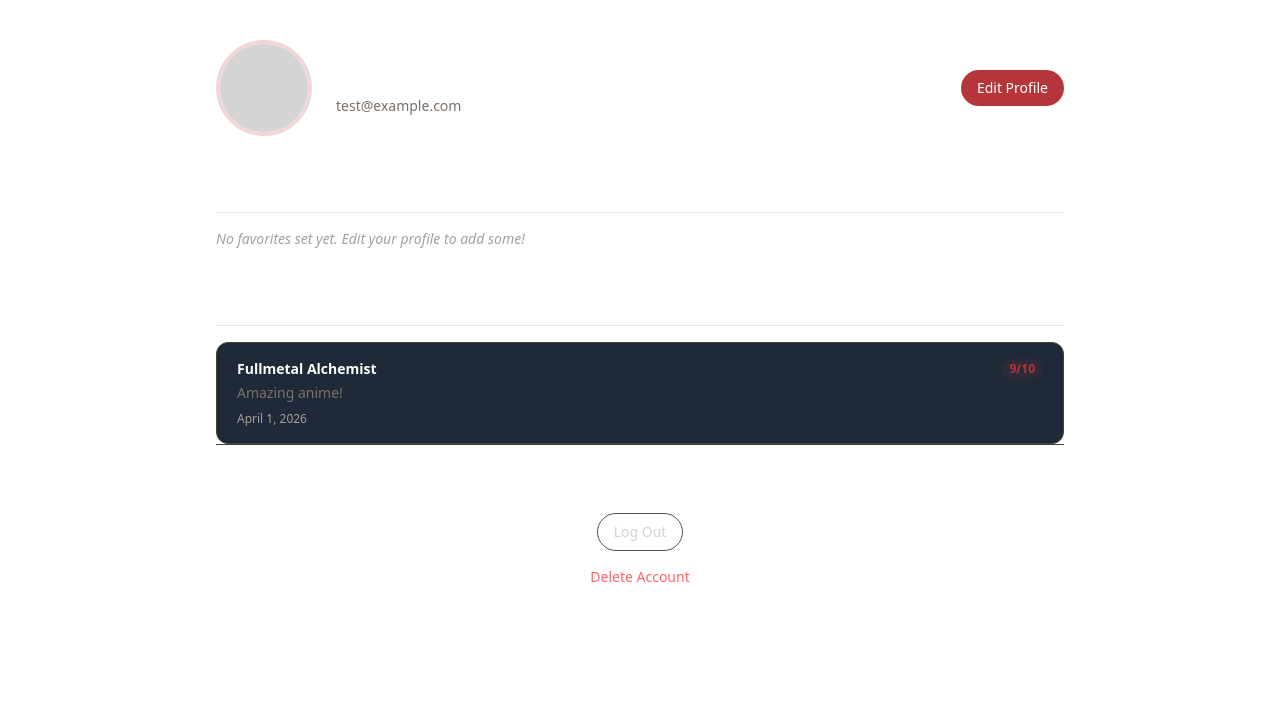
Test case: ProfilePage › Edit profile modal › closes modal when Cancel is clicked
Step 1. Click the button "Edit Profile" → {"x": 1012, "y": 88}, box [961, 70, 1064, 106]
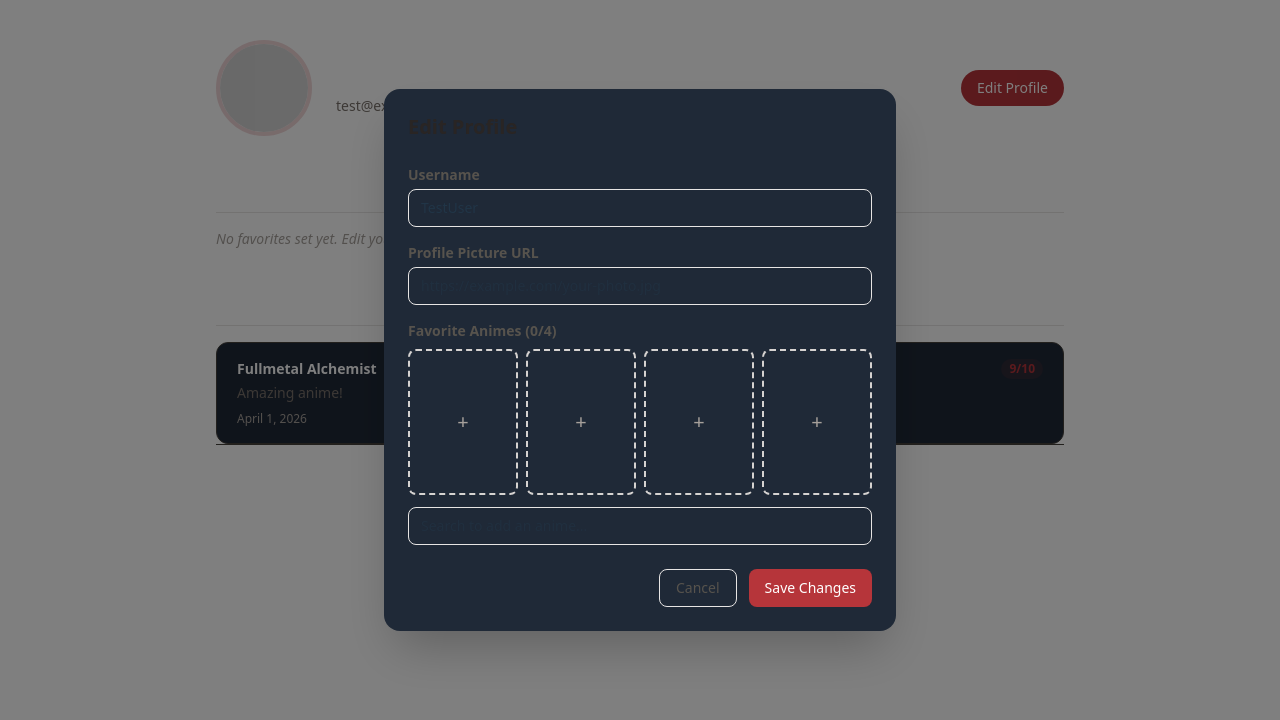
Step 2. Click the button "Cancel" → {"x": 698, "y": 588}, box [659, 569, 737, 607]
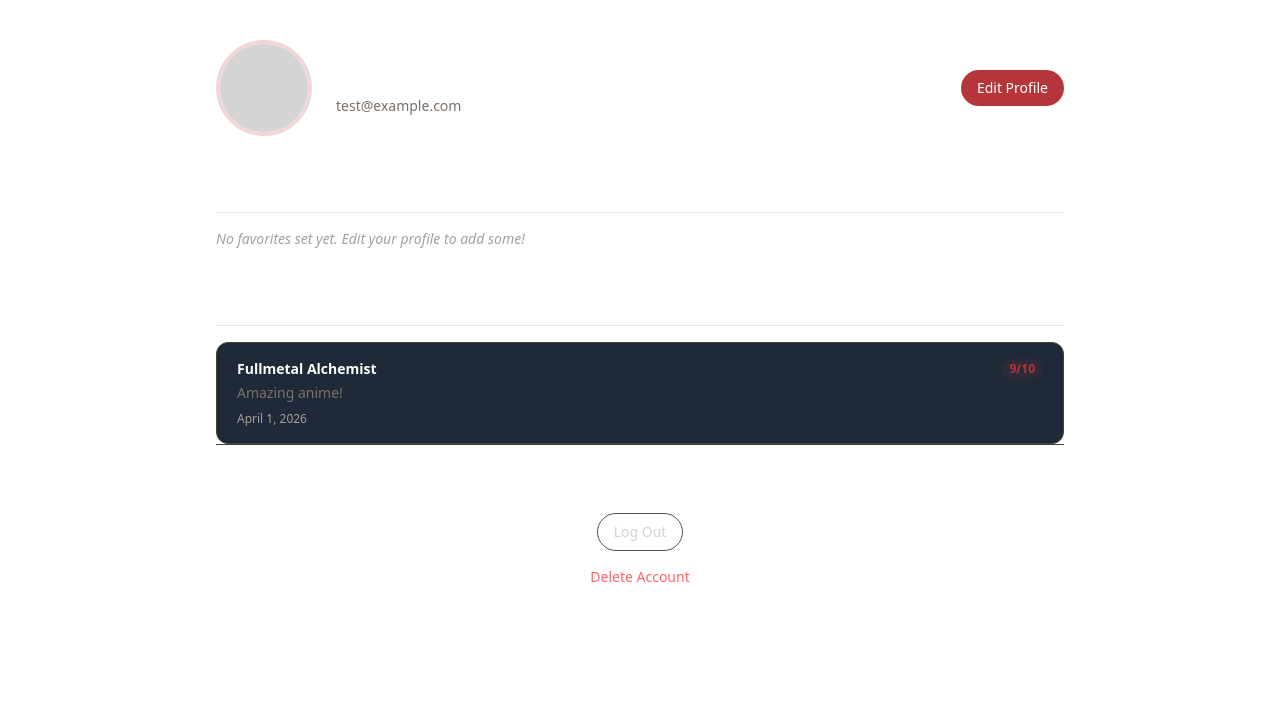
Now the button "Cancel" is gone
